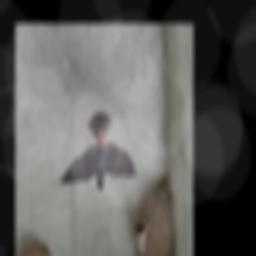Swallow: (58, 111, 137, 193)
